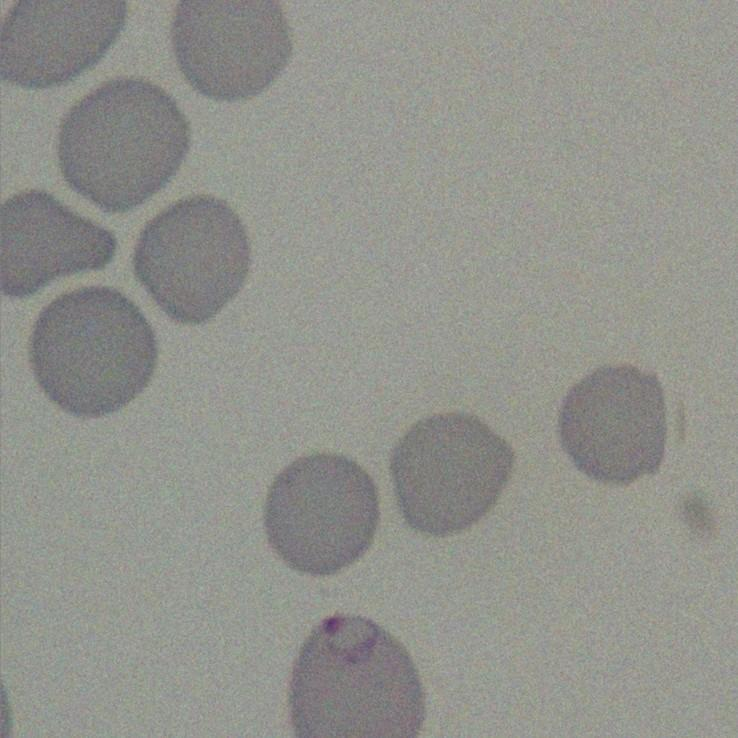Infected: (286, 611, 423, 738)
Uninfected: (54, 79, 188, 212), (388, 409, 517, 539), (30, 287, 157, 415), (134, 197, 249, 326), (556, 361, 672, 488), (266, 447, 379, 576), (0, 189, 120, 298), (176, 0, 296, 106), (0, 0, 128, 92)
